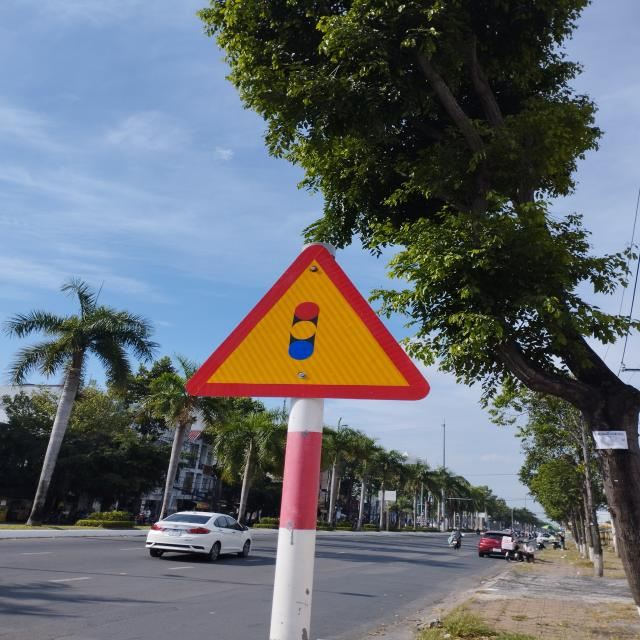Duong_Co_Go_Giam_Toc: (187, 246, 427, 399)
